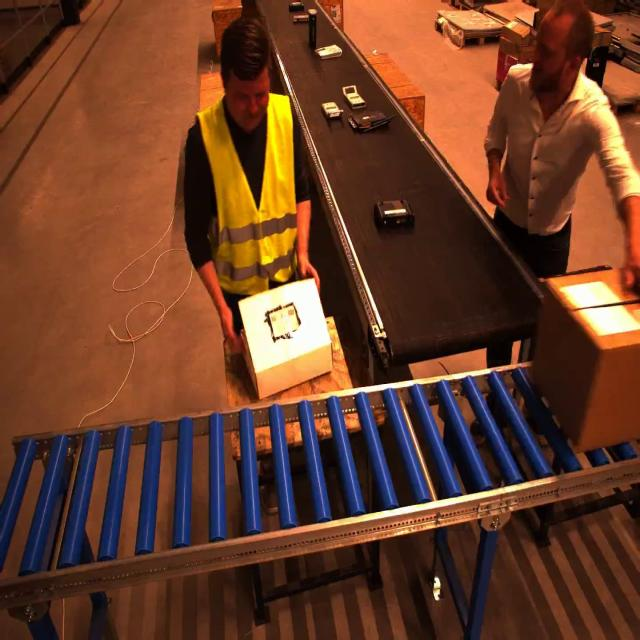box: (533, 272, 636, 442)
product: (236, 276, 332, 399), (373, 199, 415, 229), (349, 110, 394, 132), (343, 84, 366, 109), (321, 101, 343, 120), (315, 44, 342, 59), (308, 8, 318, 48), (288, 1, 304, 12), (292, 14, 309, 23)
